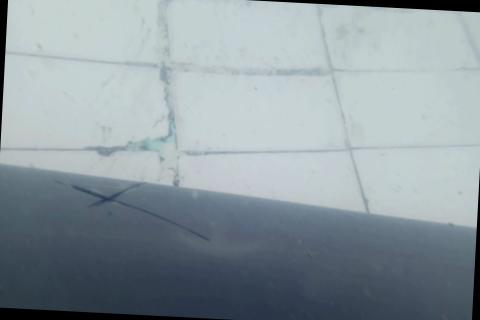keretakan: (49, 170, 216, 244)
